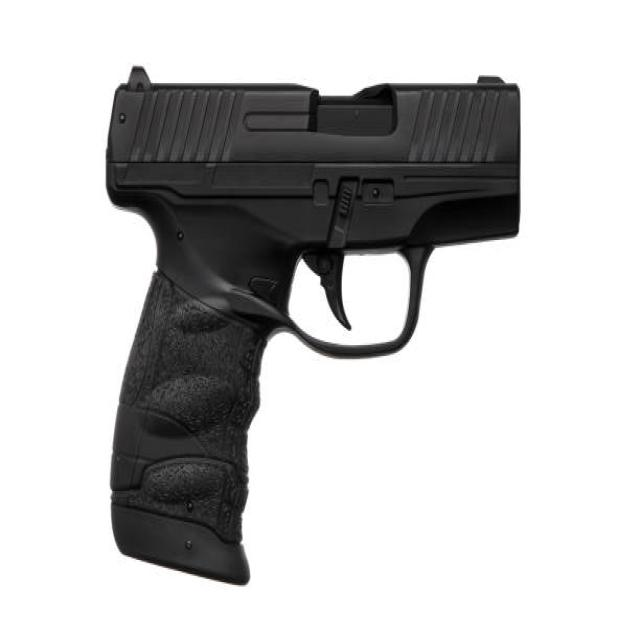pistol: (95, 66, 529, 597)
